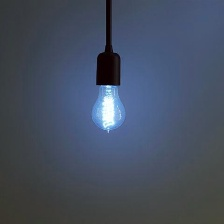light_bulb: (87, 71, 126, 135)
